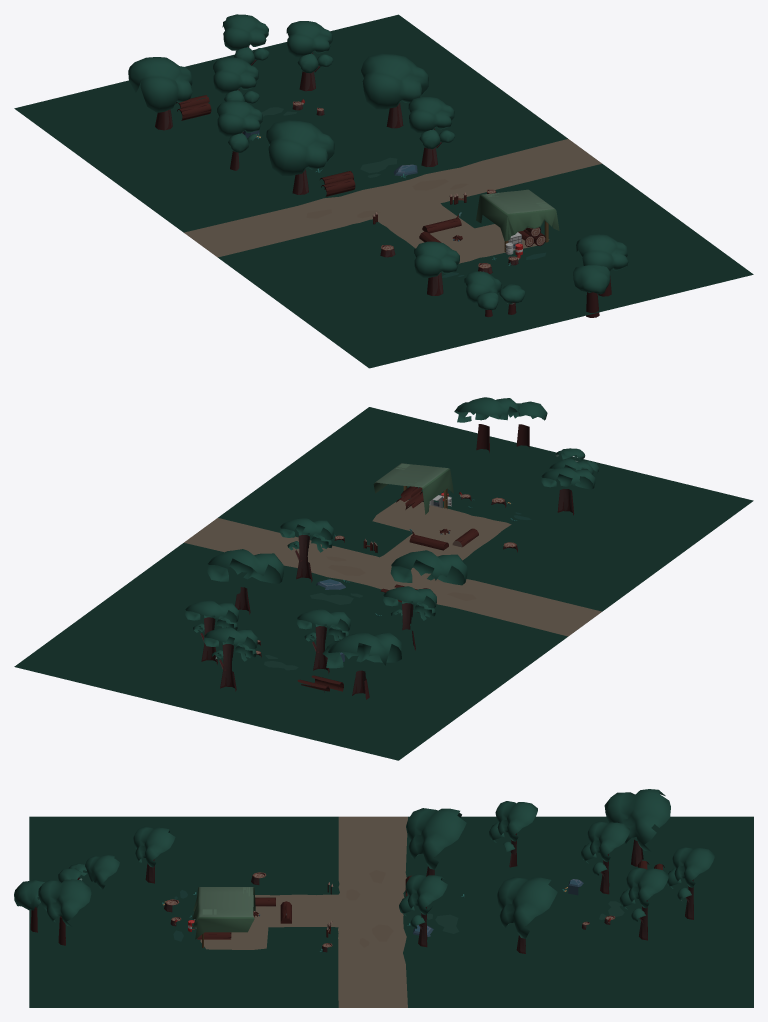
File: map.glb
3 views of the same model, one above another, from view 1: azimuth 30°, elevation 25°; view 2: azimuth 150°, elevation 25°; view 3: azimuth 270°, elevation 25° (orthographic).
Visible parts, largest first — view 1: 2-1.001, 1-6.003; view 2: 2-1.001, 1-6.003; view 3: 2-1.001, 1-6.003.
Part boxes in pixels (x1,y1,x2,y2): 2-1.001: [14, 14, 753, 368]; 1-6.003: [128, 14, 455, 196]; 2-1.001: [14, 397, 753, 760]; 1-6.003: [185, 518, 467, 699]; 2-1.001: [14, 816, 753, 1007]; 1-6.003: [399, 789, 714, 953].
Size of the model in its own units: 43.42 by 7.61 by 70.94.
1 material, 1 textured.
